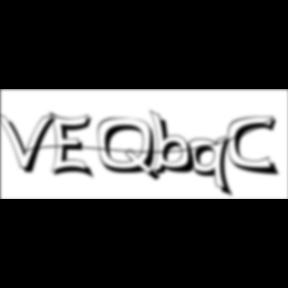C: (228, 115, 282, 178)
E: (49, 110, 98, 182)
Q: (98, 117, 164, 184)
V: (0, 110, 60, 176)
b: (150, 109, 202, 179)
q: (189, 135, 238, 200)
